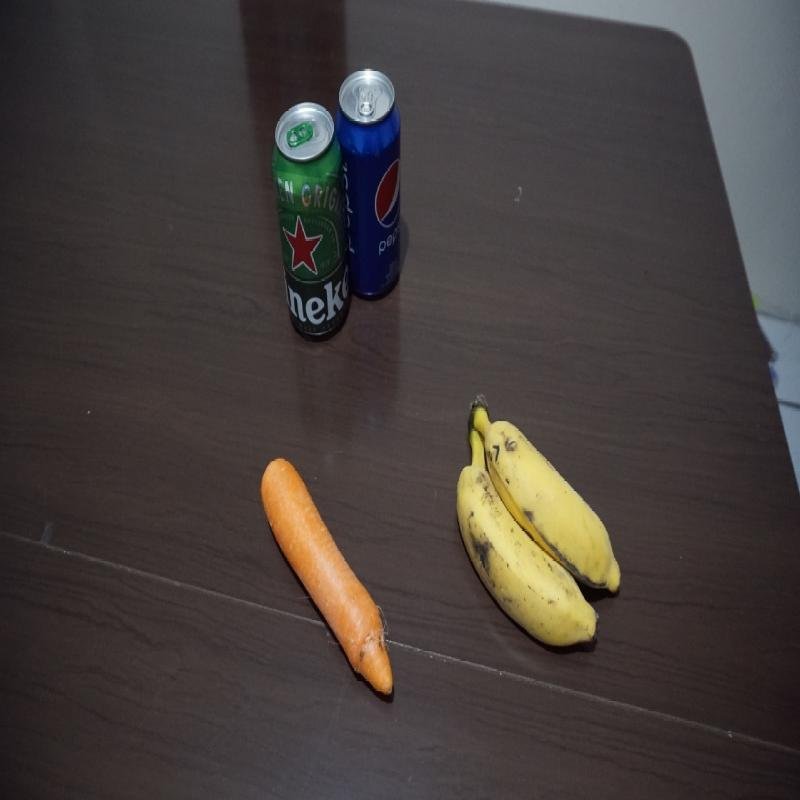Banana: (455, 397, 622, 650)
Beer can: (272, 102, 351, 340)
Carrot: (261, 458, 394, 700)
Soda can: (337, 67, 402, 297)
